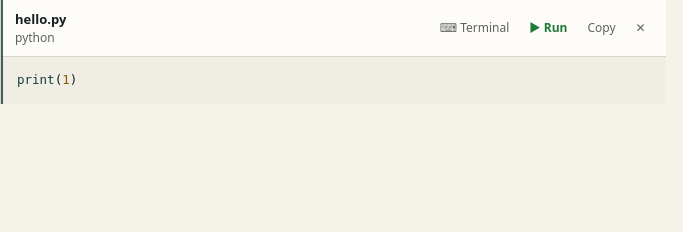
Test case: the file viewer never stays stuck on a refused request › a refused run ends as failed, with the reason
This screenshot has width=683, height=232.
Click the button "▶ Run" at (548, 28), box [523,17,573,39]
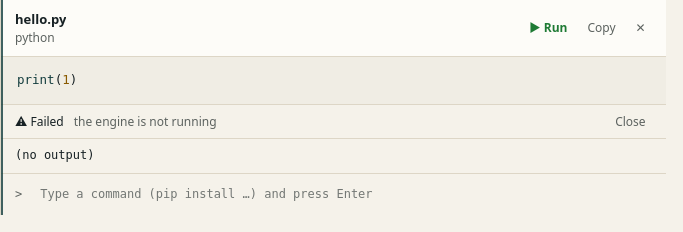
Expected: the text "the engine is not running" is shown, [74,113,216,130]
